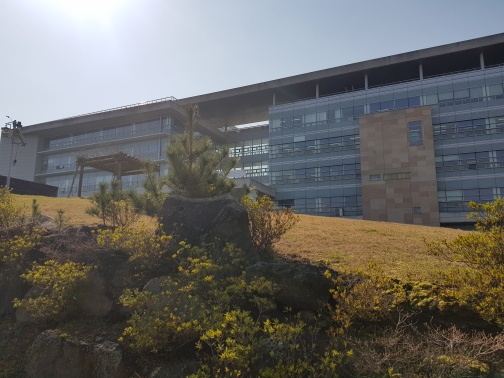Engineering College Building 4: (13, 101, 502, 197), (276, 44, 502, 224), (353, 101, 439, 225)
